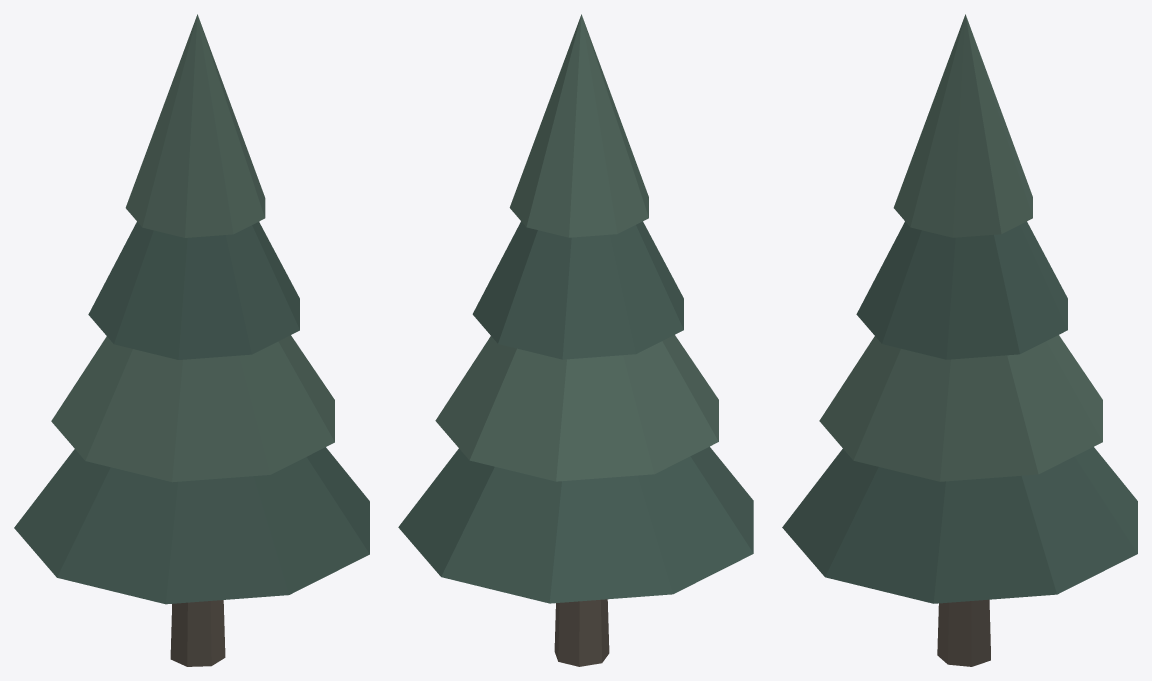
The model's file is pine.glb.
3 views of the same model, side by side, from view 1: azimuth 30°, elevation 25°; view 2: azimuth 150°, elevation 25°; view 3: azimuth 270°, elevation 25° (orthographic).
Parts seen in each view (by area): view 1: Pine needle tier, Pine needle tier.001, Pine needle tier.002, Pine needle tier.003, Pine trunk; view 2: Pine needle tier, Pine needle tier.001, Pine needle tier.002, Pine needle tier.003, Pine trunk; view 3: Pine needle tier, Pine needle tier.001, Pine needle tier.002, Pine needle tier.003, Pine trunk.
Part boxes in pixels (<box>): Pine needle tier: <box>14,447,369,604</box>; Pine needle tier.001: <box>51,335,334,482</box>; Pine needle tier.002: <box>88,222,299,359</box>; Pine needle tier.003: <box>125,14,265,237</box>; Pine trunk: <box>170,600,225,666</box>; Pine needle tier: <box>398,446,753,603</box>; Pine needle tier.001: <box>435,335,718,481</box>; Pine needle tier.002: <box>472,221,683,359</box>; Pine needle tier.003: <box>509,14,648,237</box>; Pine trunk: <box>554,599,609,666</box>; Pine needle tier: <box>782,447,1137,603</box>; Pine needle tier.001: <box>819,335,1102,481</box>; Pine needle tier.002: <box>856,221,1067,359</box>; Pine needle tier.003: <box>893,14,1032,237</box>; Pine trunk: <box>937,599,990,666</box>.
Size of the model in its own units: 0.7681 by 1.5 by 0.7565.
